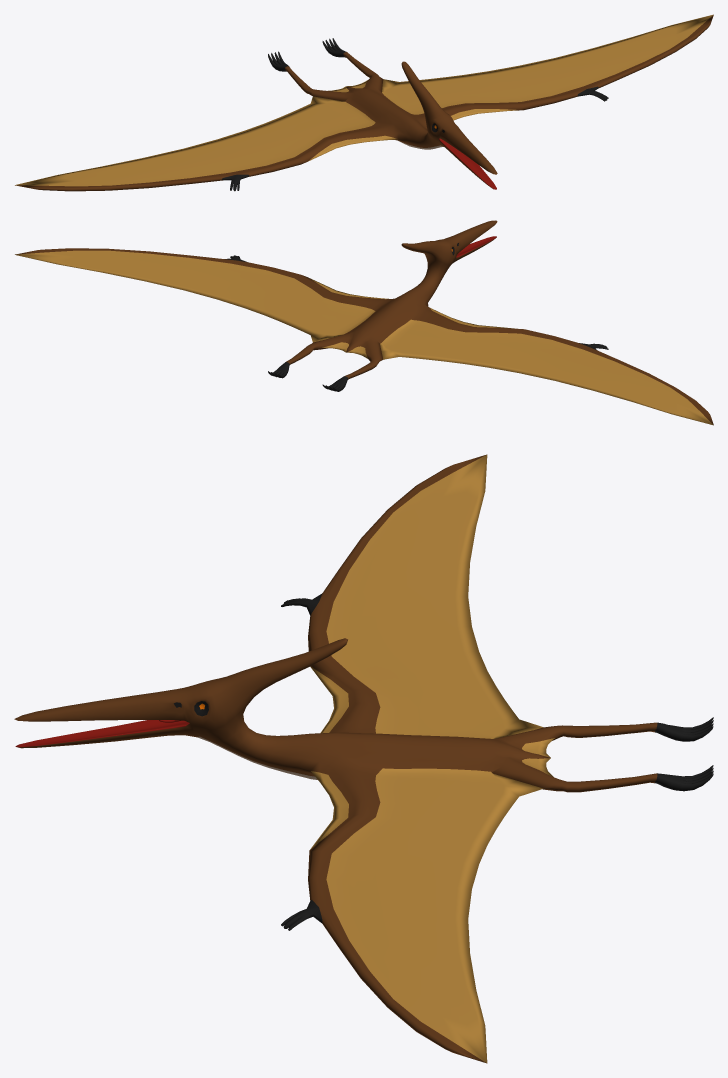
Rendered from Pteranodon.fbx.
3 views of the same model, one above another, from view 1: azimuth 30°, elevation 25°; view 2: azimuth 150°, elevation 25°; view 3: azimuth 270°, elevation 25° (orthographic). The views are drawn at different scales.
Visible parts, largest first — view 1: Pteranodon; view 2: Pteranodon; view 3: Pteranodon.
Part boxes in pixels (left/top/right/bottom): Pteranodon: left=15, top=14, right=713, bottom=191; Pteranodon: left=15, top=220, right=713, bottom=425; Pteranodon: left=14, top=454, right=713, bottom=1063.
Bounding box in the file's own units: 567 × 62.4 × 275.
